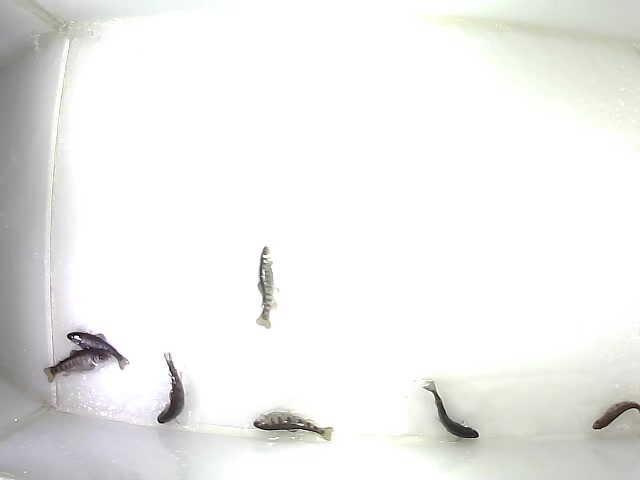fish: (421, 379, 481, 440), (252, 409, 334, 443), (66, 330, 130, 371), (42, 347, 112, 383), (155, 351, 186, 426), (254, 243, 279, 331), (591, 400, 640, 432)
